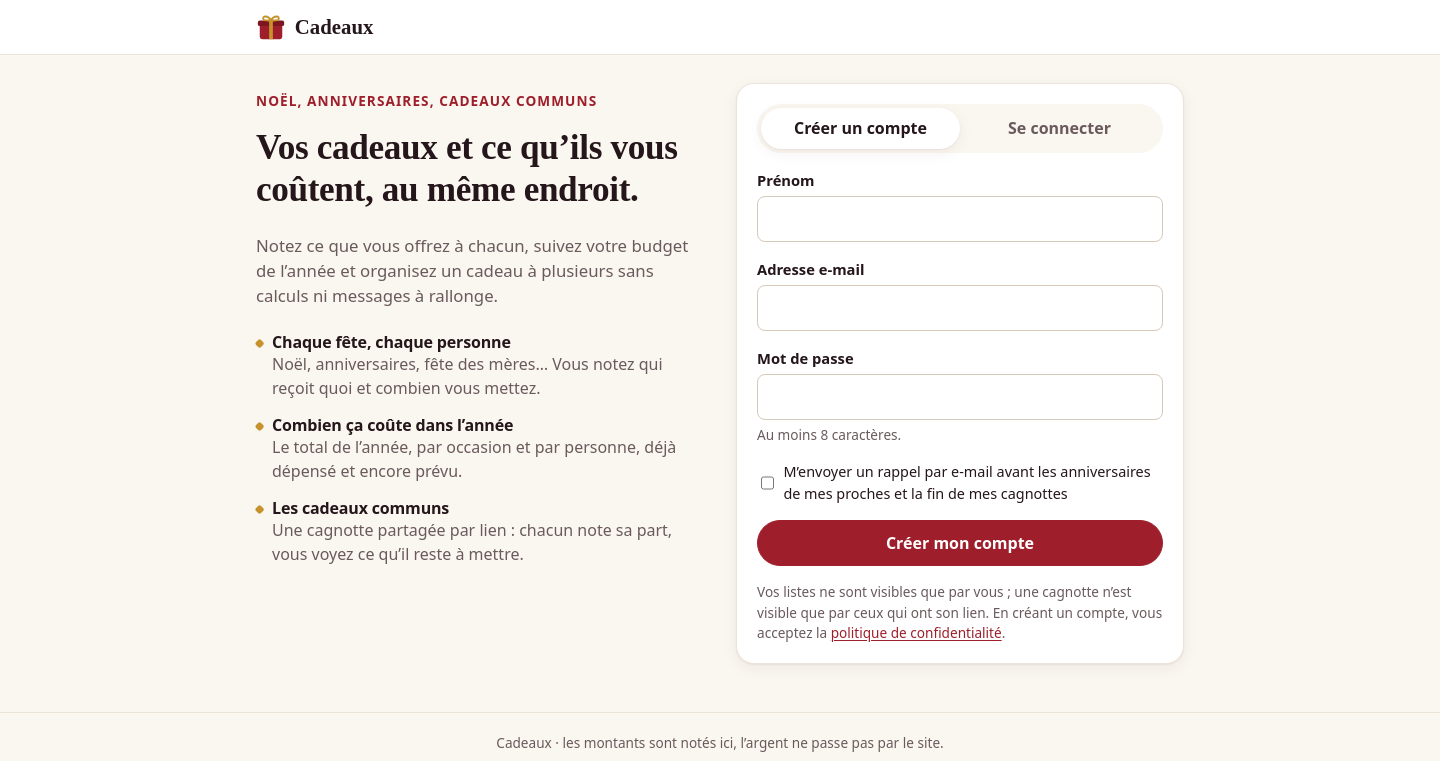
Scenario: mot de passe et adresse › la connexion envoie l’identifiant de l’appareil
This screenshot has width=1440, height=761.
Step 1. Click the tab "Se connecter" → point(1060, 128), box [960,108,1159,149]
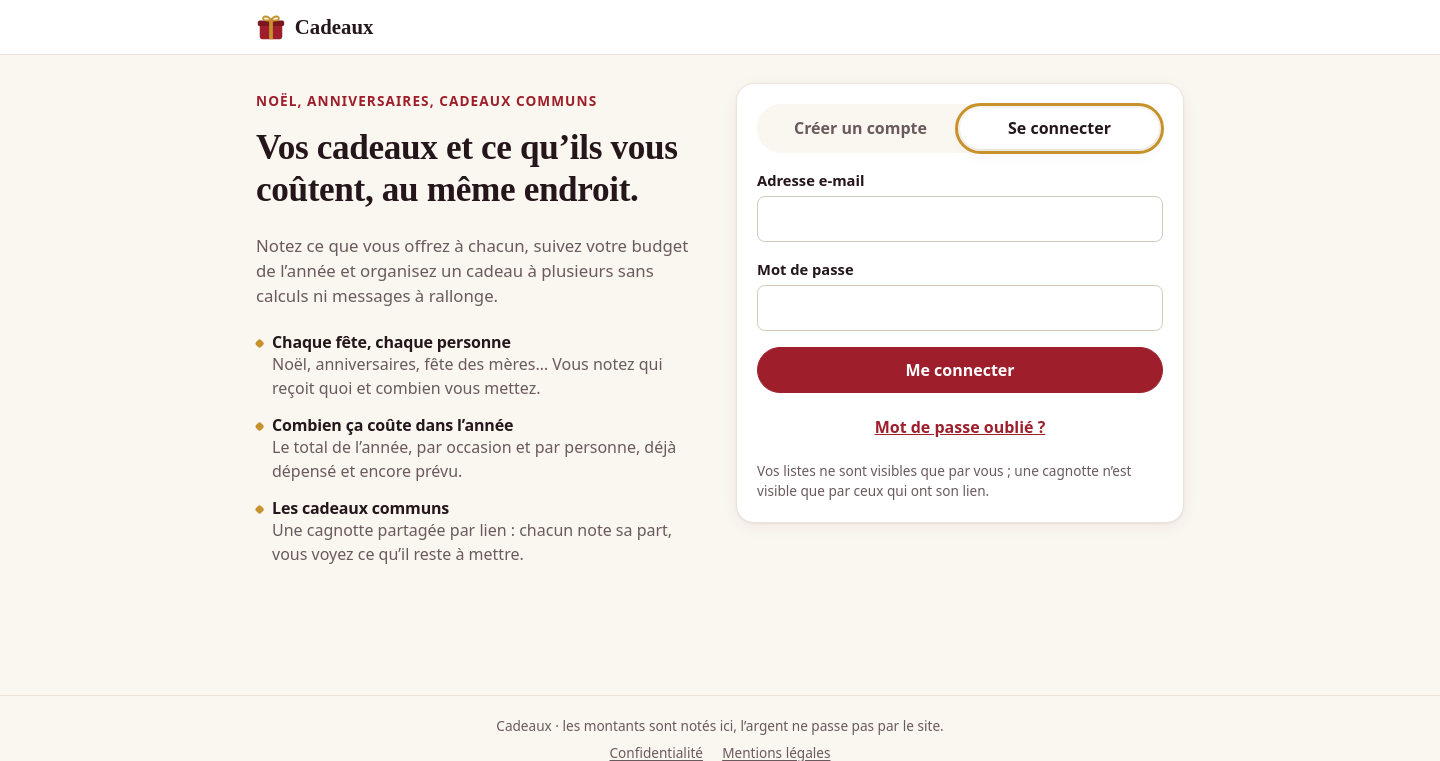
Step 2. Type "baptiste@example.com" into the field labelled "Adresse e-mail" → point(960, 219), box [757,196,1163,242]
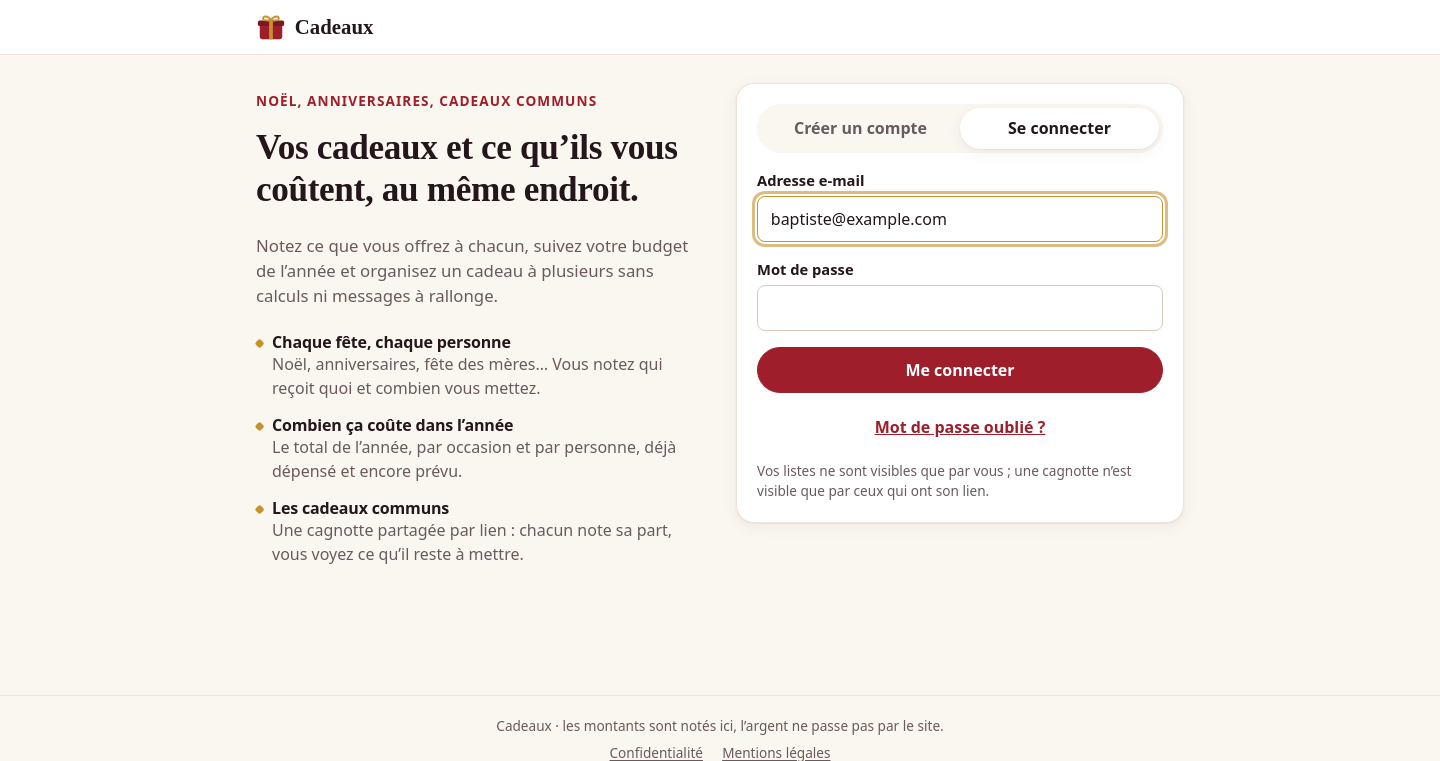
Step 3. Type "motdepasse123" into the password field labelled "Mot de passe" → point(960, 308), box [757,285,1163,331]
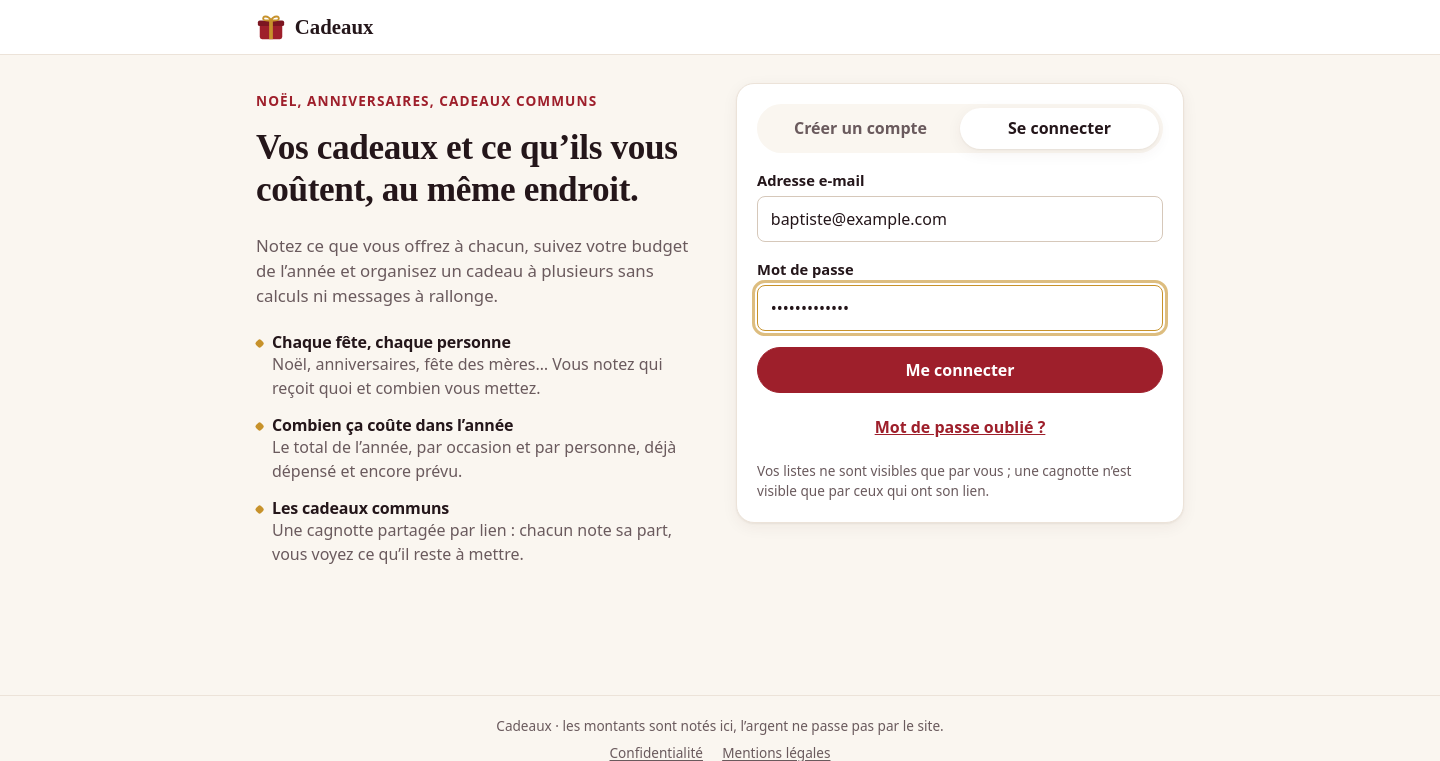
Step 4. Click the button "Me connecter" → point(960, 370), box [757,347,1163,393]
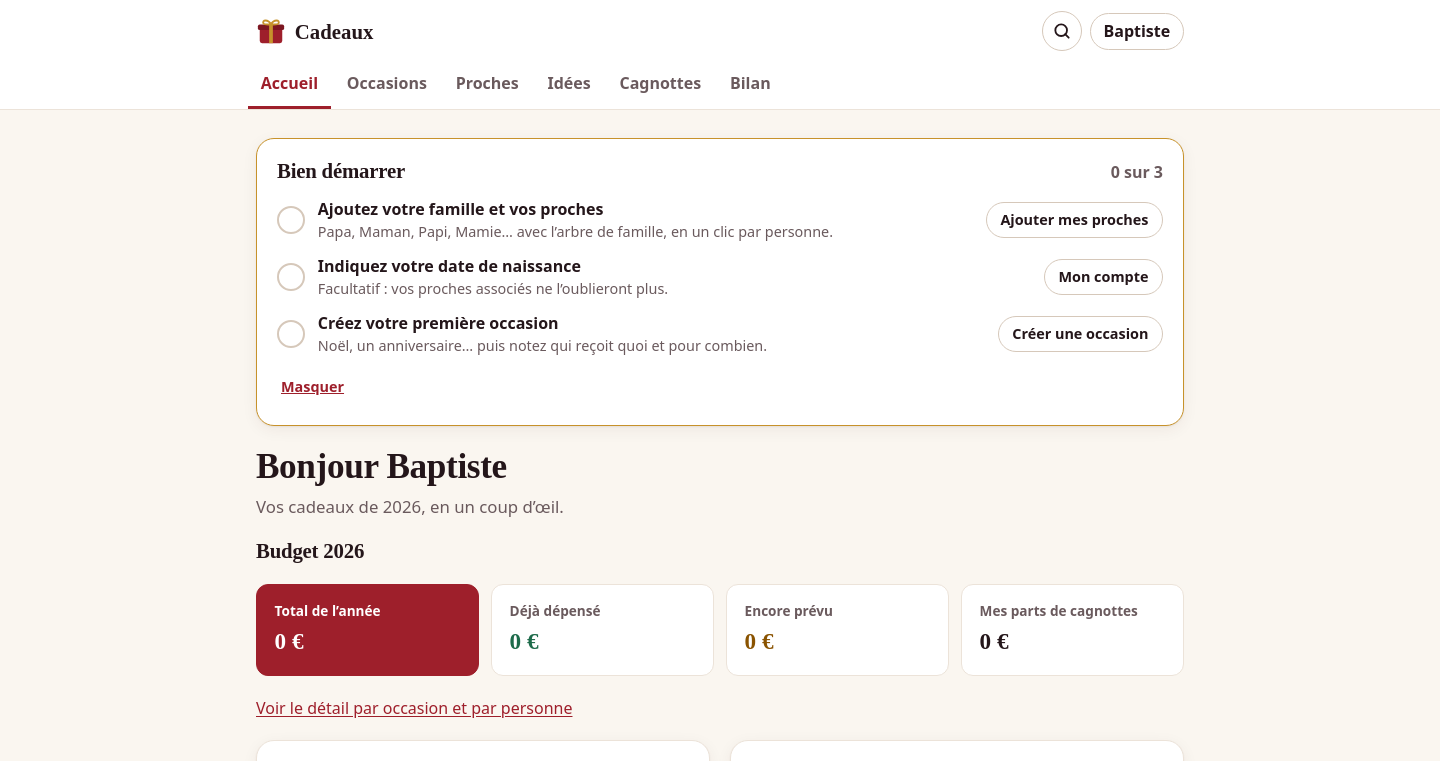
Check: the heading "Bonjour Baptiste" is shown, box [256,447,507,486]
